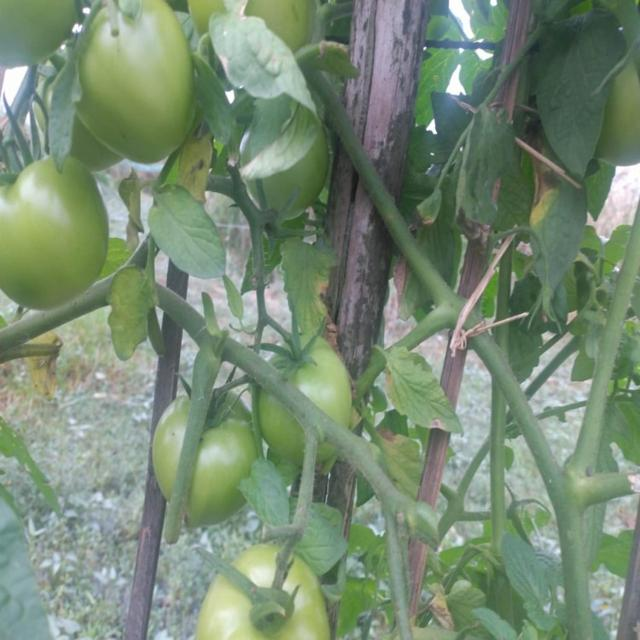tomato: (72, 1, 197, 167), (1, 155, 110, 310), (148, 400, 262, 518), (259, 334, 354, 462), (203, 546, 332, 640), (246, 124, 330, 214), (193, 1, 303, 59), (37, 88, 113, 169), (1, 3, 83, 77), (599, 61, 640, 176)
